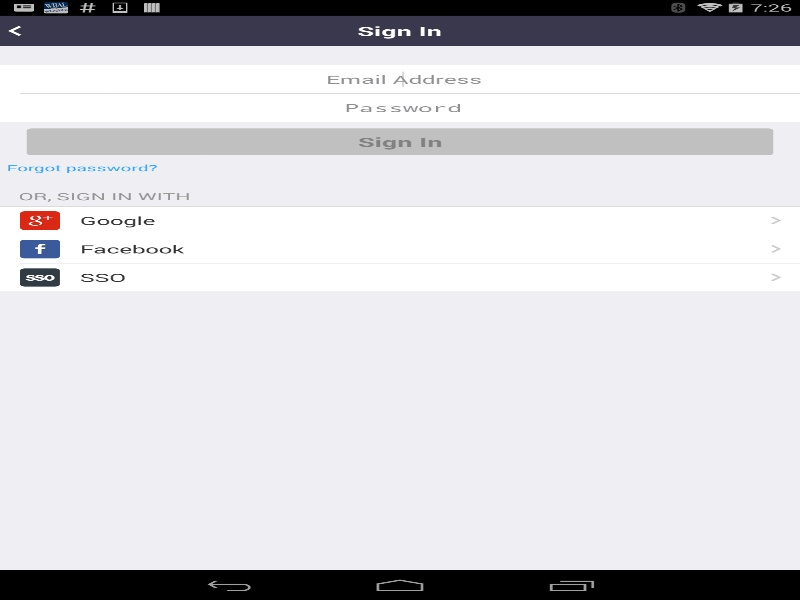Button: (26, 128, 773, 155), (0, 158, 164, 177), (4, 18, 45, 43)
Input: (20, 71, 786, 86), (20, 100, 786, 115)
